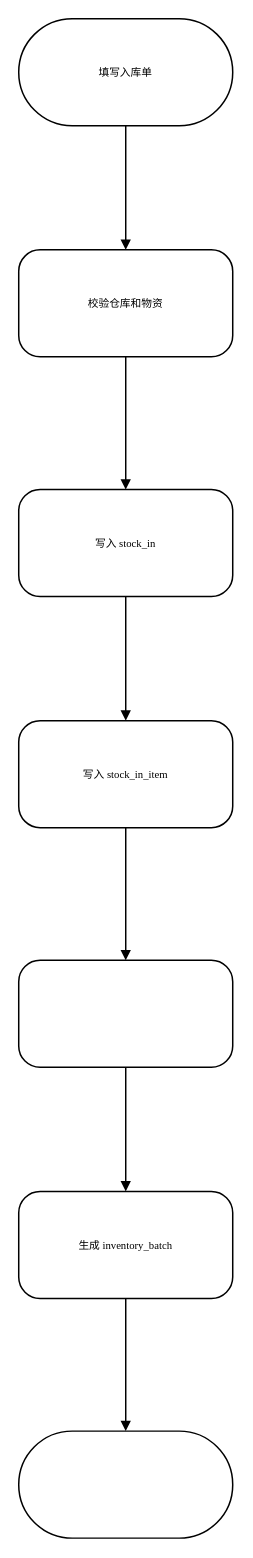
Image size: 253x1558. Some labels were removed from this diagram. The centre of each missing label's shape, as x and y in pixels:
"更新 inventory 数量" goes at (x=125, y=1013).
"记录操作日志" goes at (x=125, y=1484).
